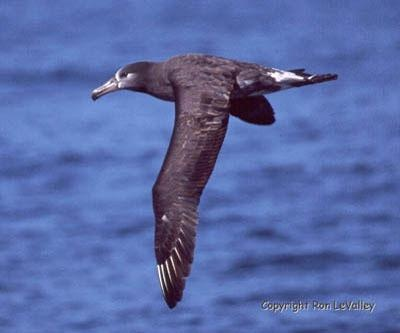bird: (89, 51, 341, 317)
